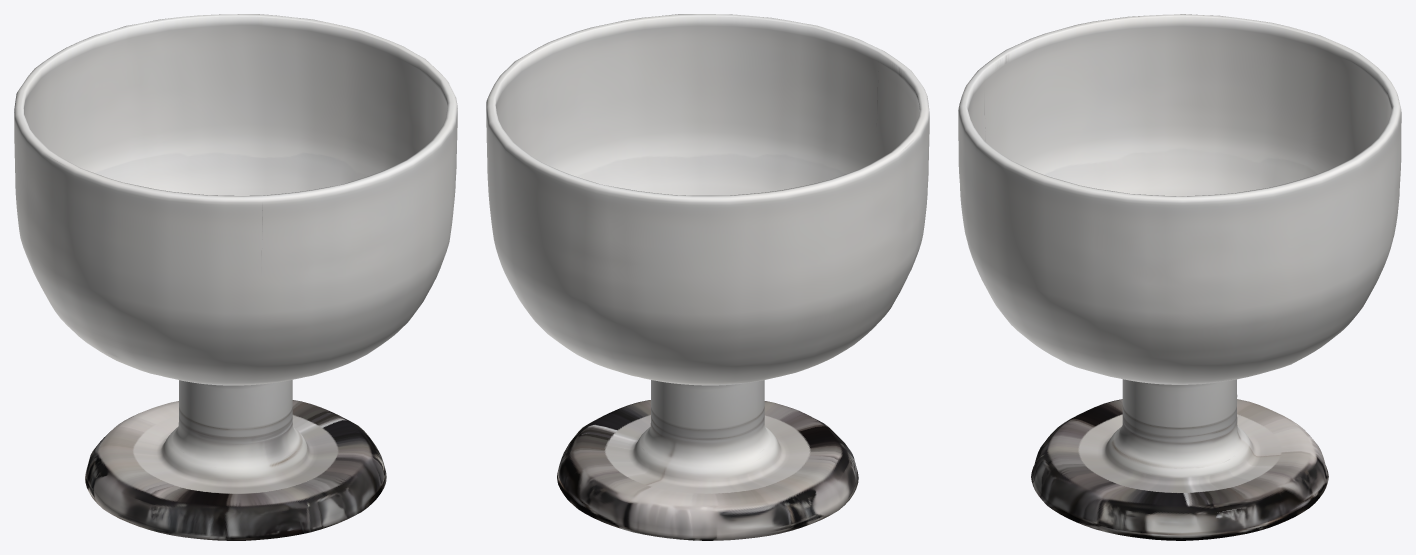
3 renders of one model, left to right at view 1: azimuth 30°, elevation 25°; view 2: azimuth 150°, elevation 25°; view 3: azimuth 270°, elevation 25°, orthographic.
Visible parts, largest first — view 1: model; view 2: model; view 3: model.
Part boxes in pixels (x1,y1,x2,y2): model: (14,14,457,540); model: (486,14,929,540); model: (958,14,1401,540).
Size of the model in its own units: 1.07 by 1 by 1.07.
Materials: 1 (1 with a texture image).
